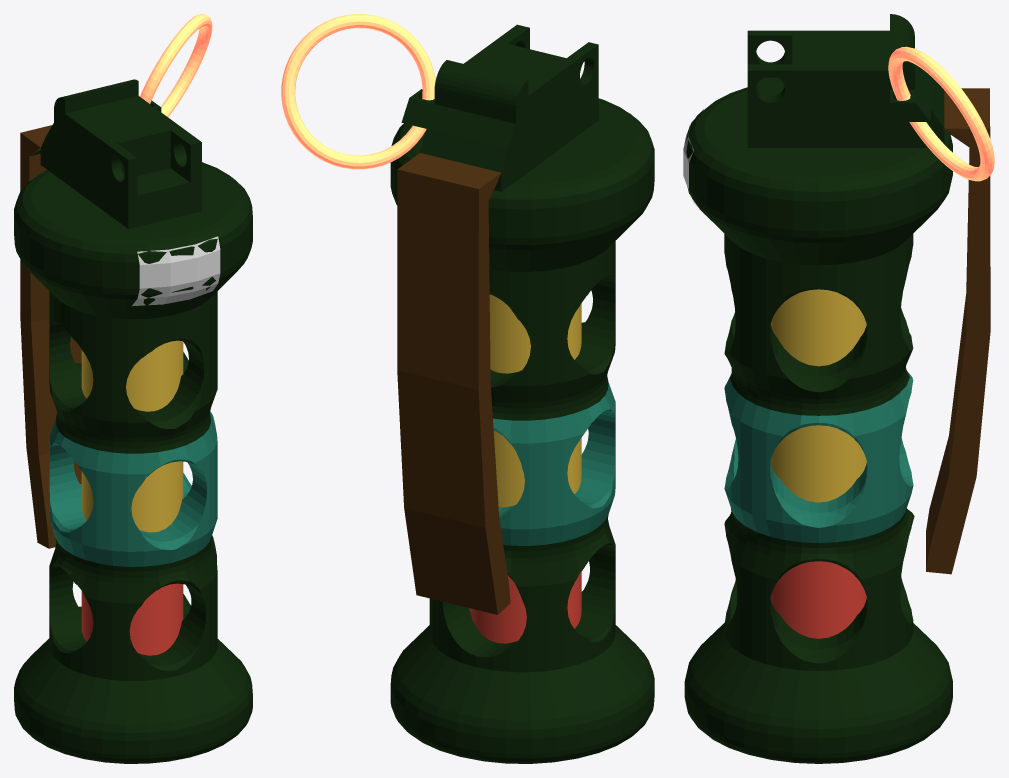
File: flash.fbx
3 renders of one model, left to right at view 1: azimuth 30°, elevation 25°; view 2: azimuth 150°, elevation 25°; view 3: azimuth 270°, elevation 25°, orthographic. The views are drawn at different scales.
Parts seen in each view (by area): view 1: 柱体, 柱体.004, 平面, 环体; view 2: 柱体, 柱体.004, 环体; view 3: 柱体, 柱体.004, 环体.
Part boxes in pixels (x1,y1,x2,y2): 柱体: (14, 79, 252, 763); 柱体.004: (81, 340, 183, 655); 平面: (132, 236, 220, 306); 环体: (140, 14, 212, 116); 柱体: (390, 24, 654, 763); 柱体.004: (469, 294, 581, 643); 环体: (281, 14, 435, 169); 柱体: (684, 14, 990, 763); 柱体.004: (770, 289, 866, 638); 环体: (888, 46, 994, 181).
Size of the model in its own units: 13.75 by 33.72 by 13.26.
